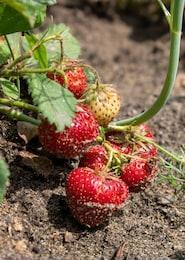Fresa: (63, 164, 131, 234)
